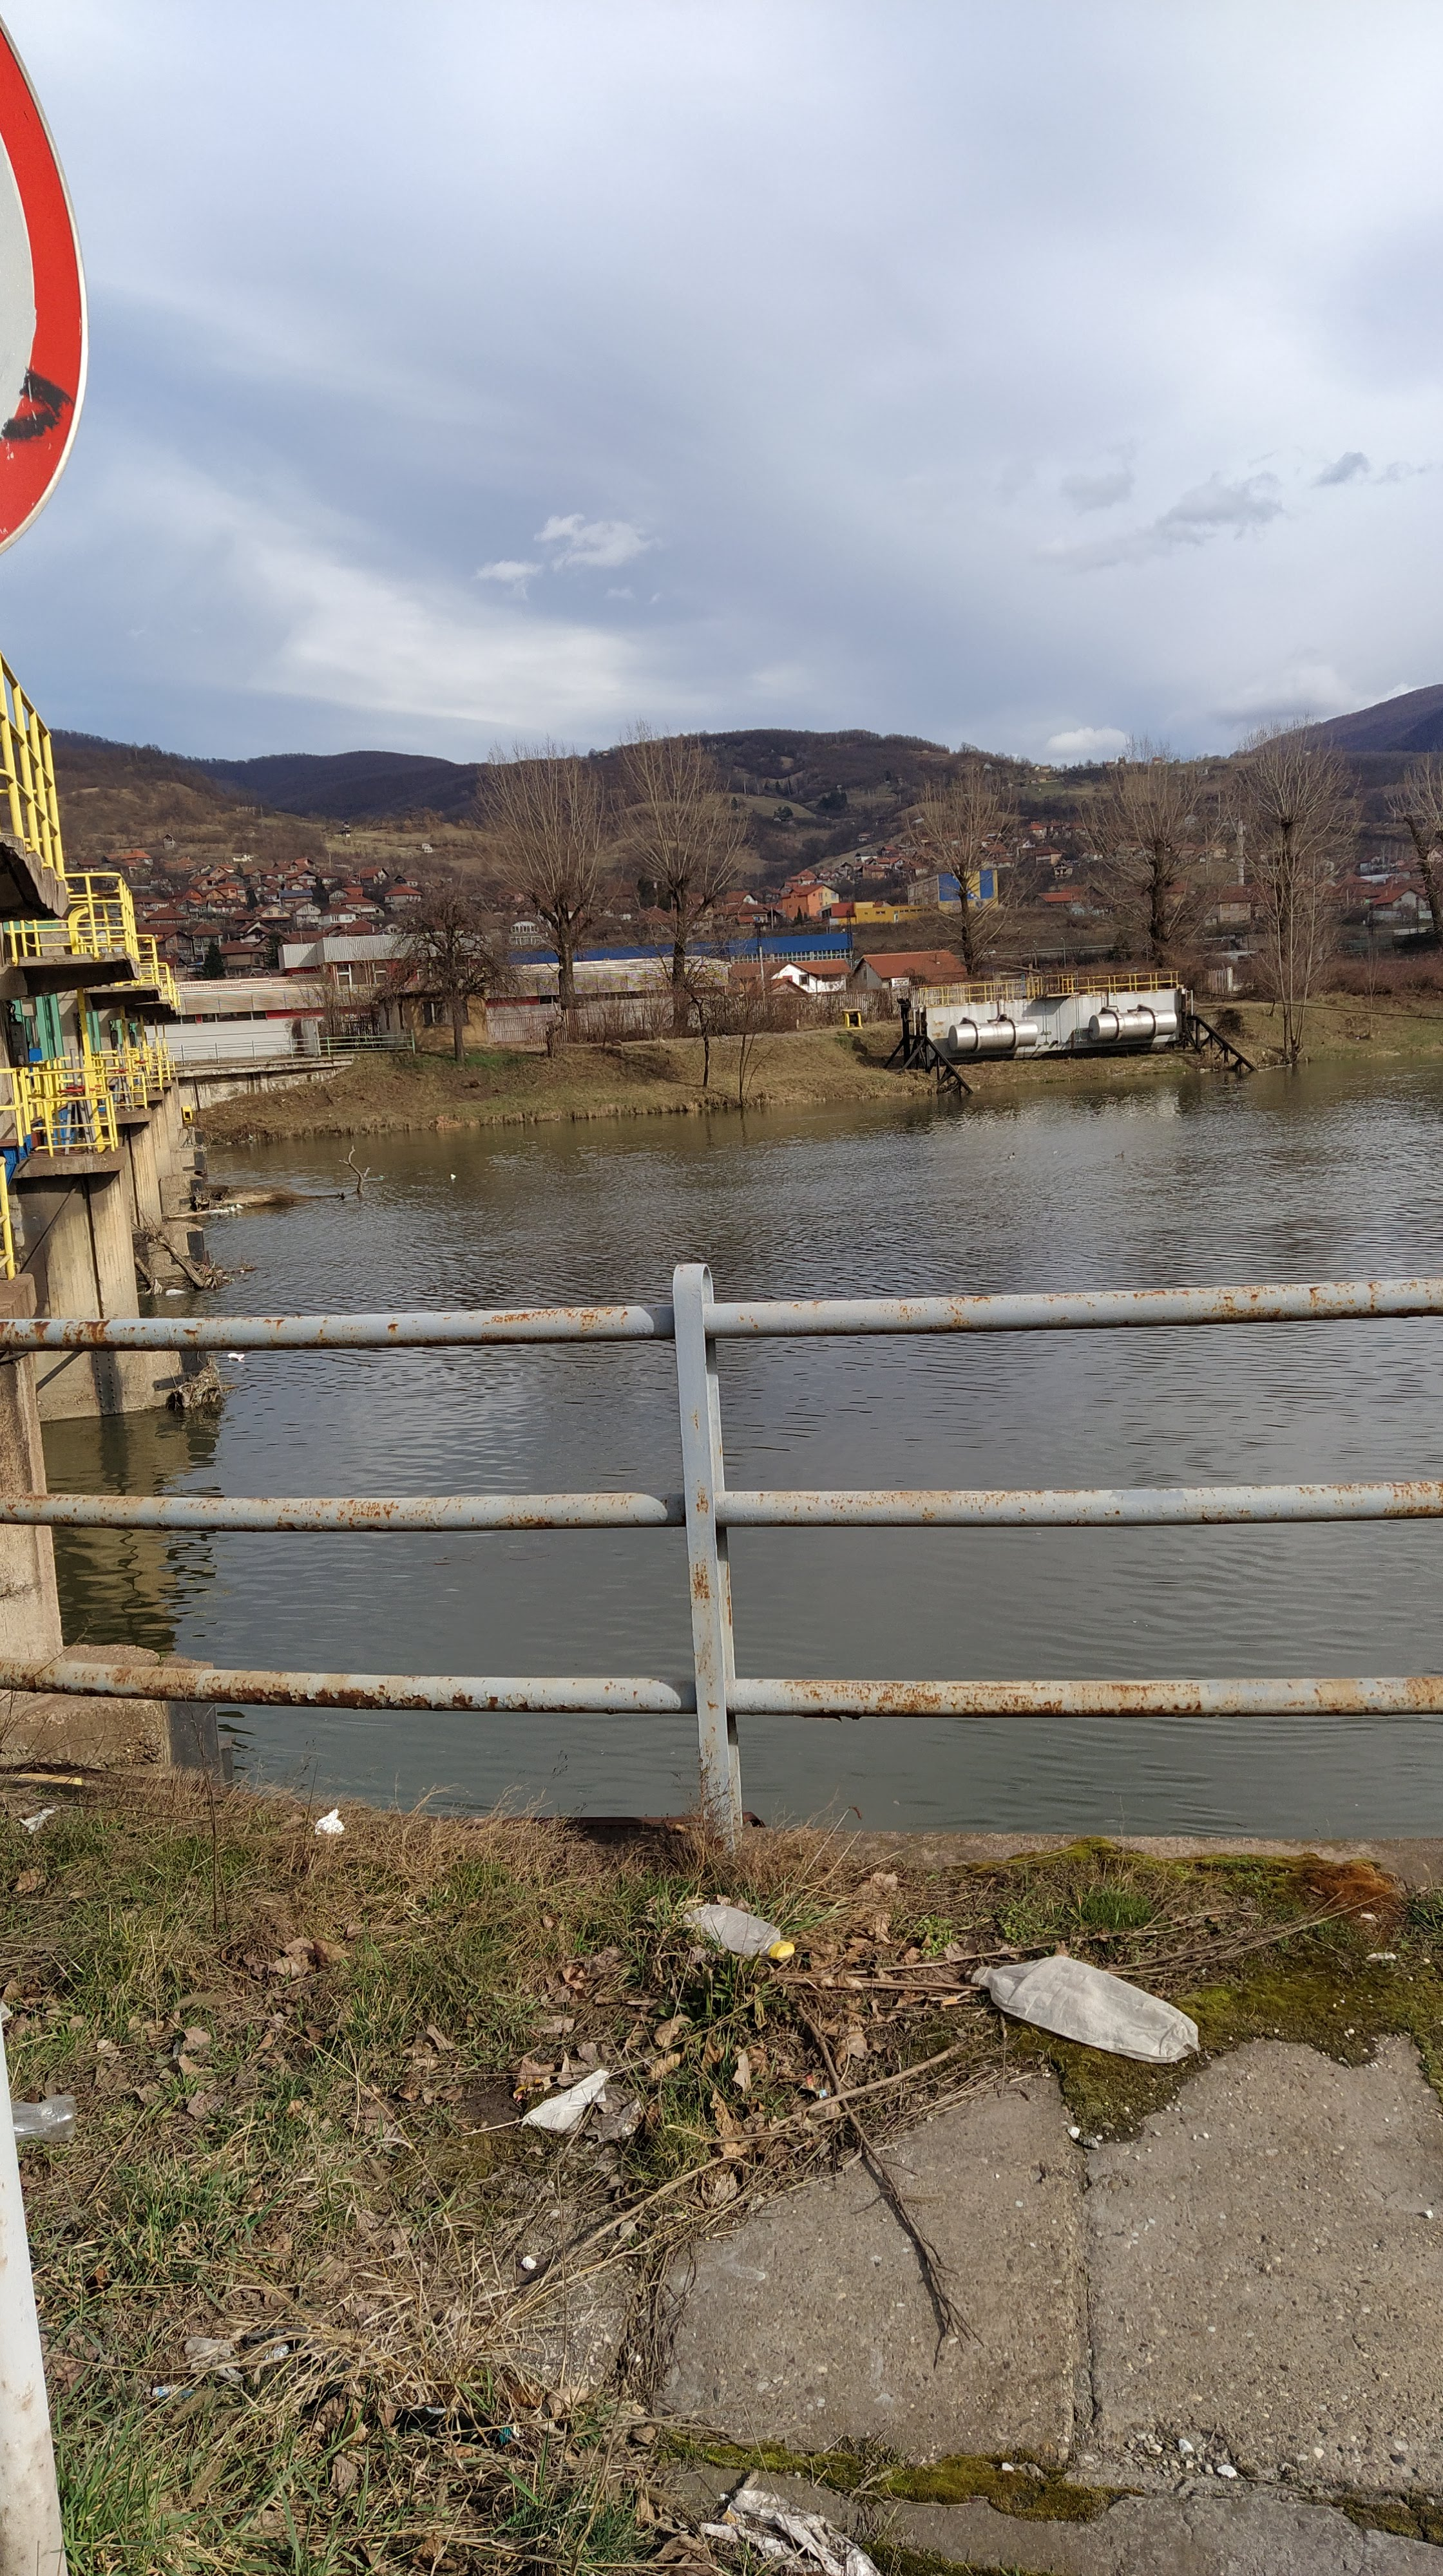Plastic Bottle: (227, 1353, 244, 1361), (379, 1175, 384, 1178), (451, 1173, 455, 1178)
